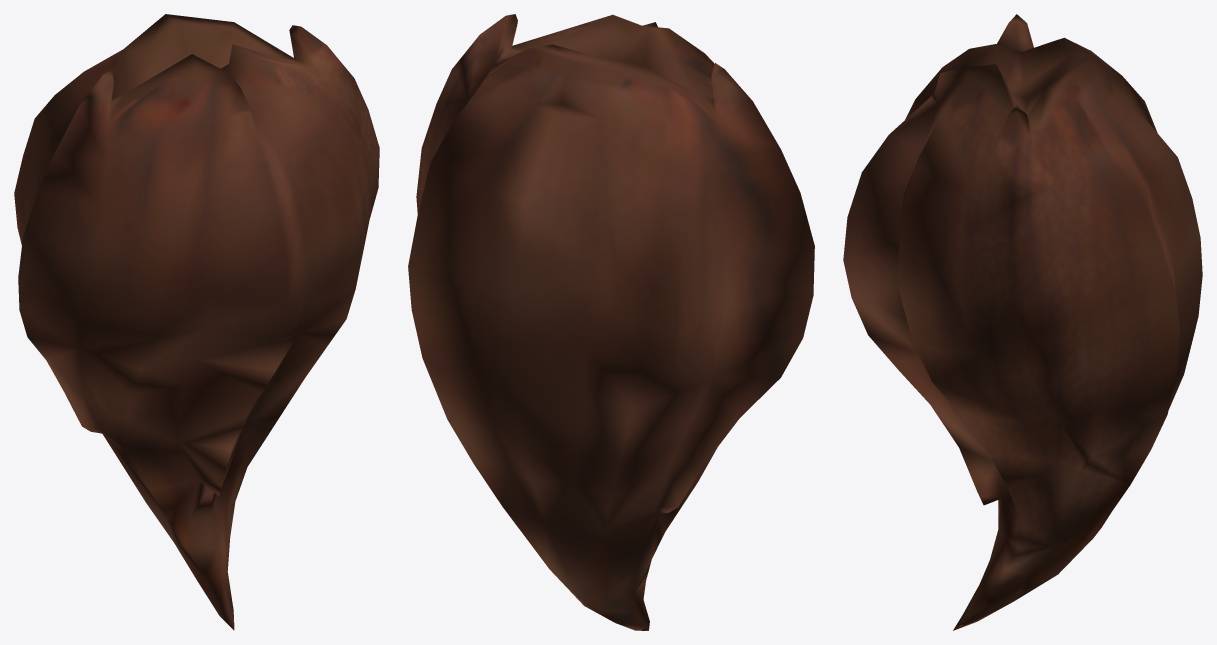
The model's file is chin_tuft.glb.
The picture shows the model from 3 angles, left to right: view 1: azimuth 30°, elevation 25°; view 2: azimuth 150°, elevation 25°; view 3: azimuth 270°, elevation 25°; orthographic projection. The views are drawn at different scales.
Parts seen in each view (by area): view 1: tripo_node_2fe49f1a-501b-4df8-8b6c-82993ec798ac; view 2: tripo_node_2fe49f1a-501b-4df8-8b6c-82993ec798ac; view 3: tripo_node_2fe49f1a-501b-4df8-8b6c-82993ec798ac.
Part boxes in pixels (x1,y1,x2,y2): tripo_node_2fe49f1a-501b-4df8-8b6c-82993ec798ac: (14,14,379,630); tripo_node_2fe49f1a-501b-4df8-8b6c-82993ec798ac: (408,14,814,630); tripo_node_2fe49f1a-501b-4df8-8b6c-82993ec798ac: (843,14,1202,630).
Bounding box in the file's own units: 0.1001 × 0.1504 × 0.085.
1 material, 1 textured.
